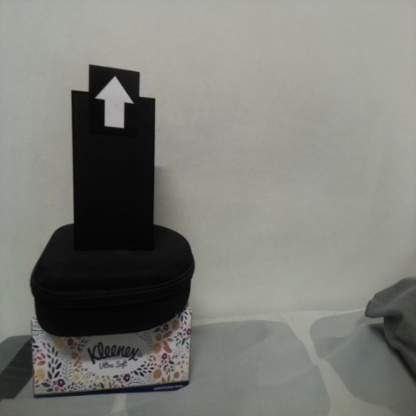id_1: (88, 67, 140, 143)
